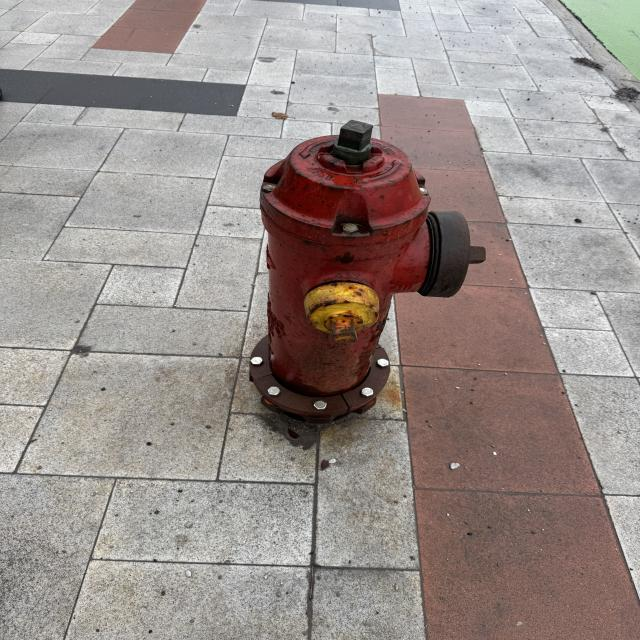Fire hydrant: (247, 120, 487, 426)
